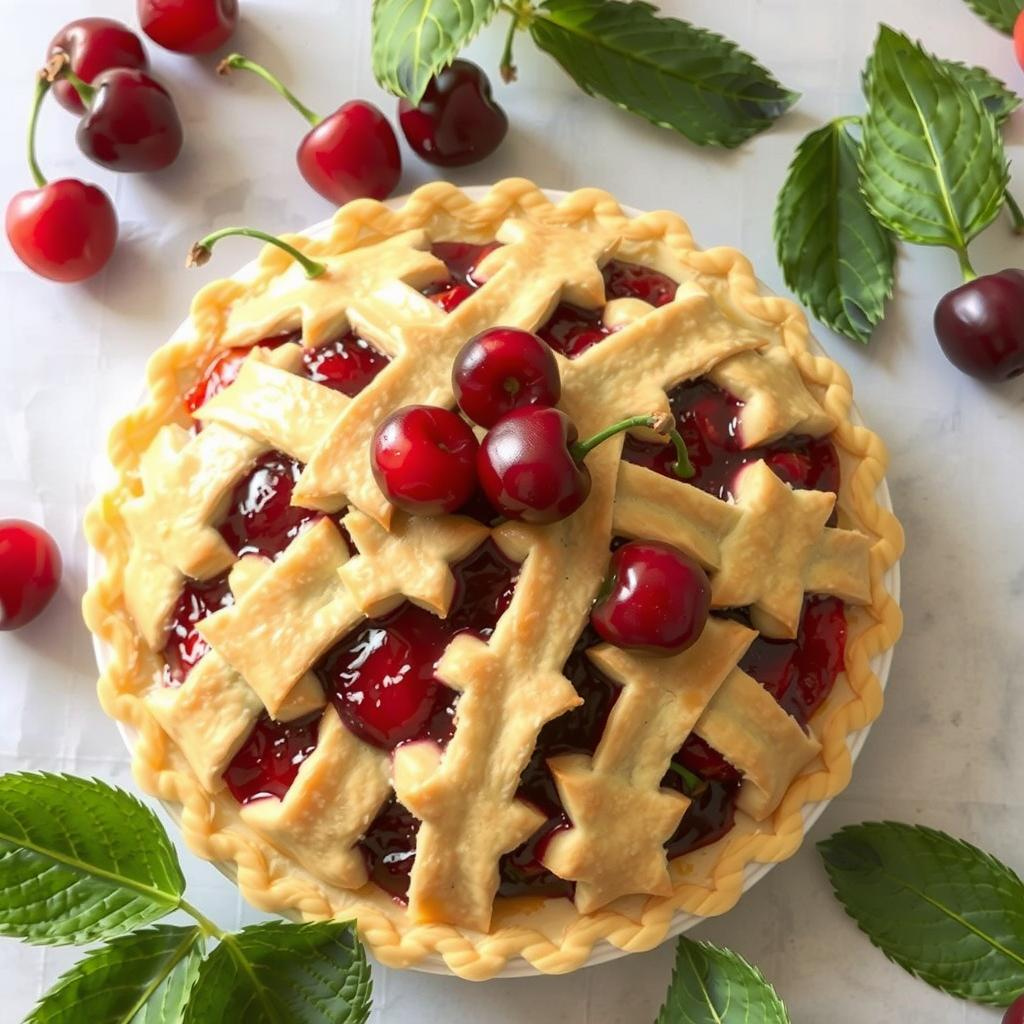pie: (73, 174, 903, 983)
